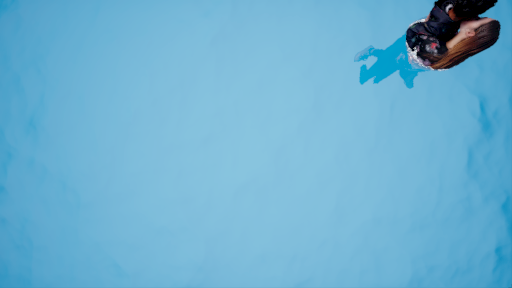person: (375, 4, 499, 97)
